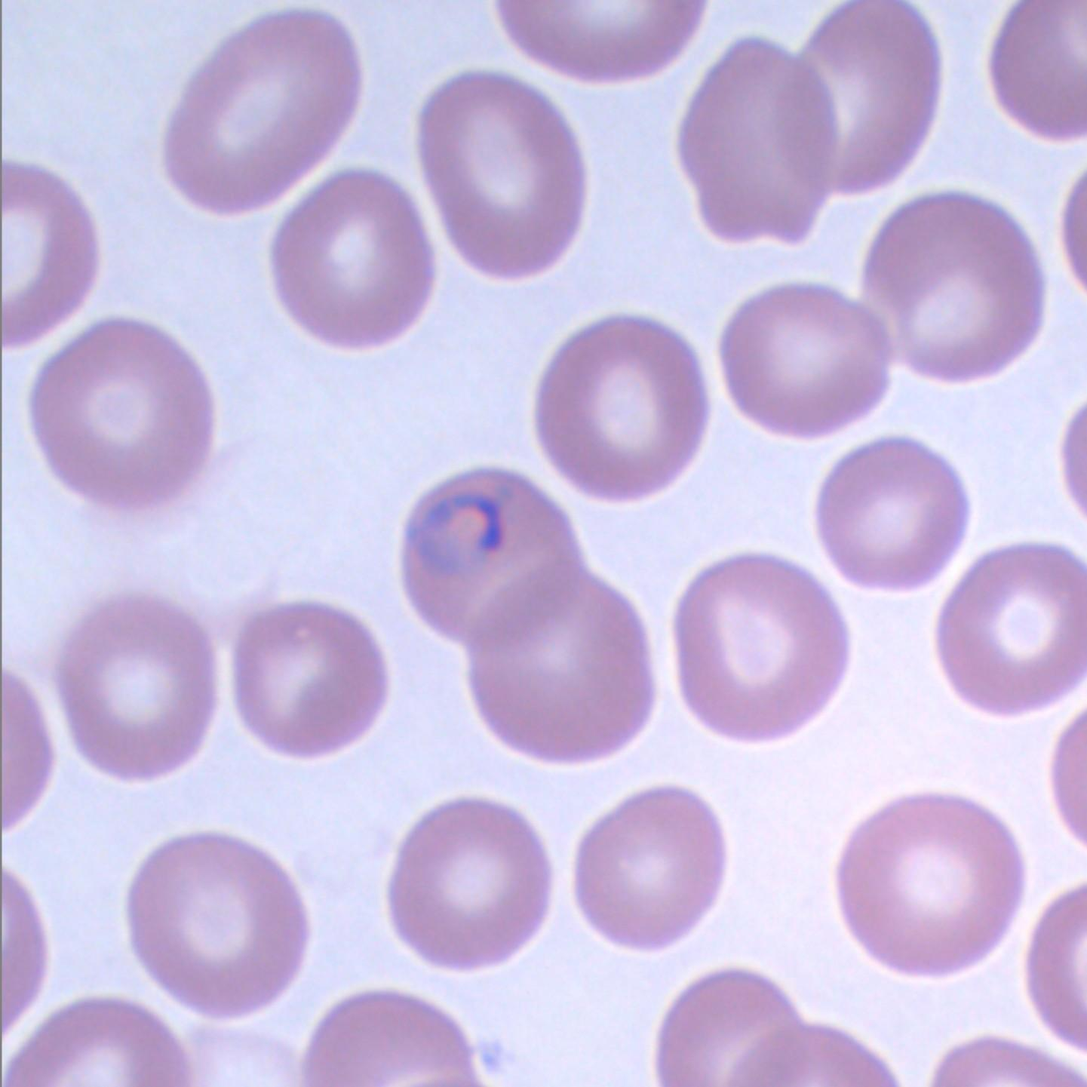Infected: (401, 468, 569, 639)
Uninfected: (166, 11, 358, 205), (538, 315, 716, 505), (32, 321, 211, 507), (418, 72, 585, 271), (864, 192, 1039, 378), (674, 553, 846, 741), (838, 794, 1015, 972), (683, 41, 837, 241), (126, 833, 298, 1012), (473, 586, 647, 761), (59, 594, 217, 774), (275, 170, 435, 344), (389, 798, 551, 969), (720, 284, 891, 438), (800, 0, 939, 189), (939, 545, 1085, 713), (572, 787, 721, 949), (235, 602, 387, 757), (816, 435, 965, 588), (306, 993, 479, 1085), (660, 970, 805, 1079), (12, 999, 183, 1082), (993, 0, 1082, 137), (1027, 886, 1082, 1038)
